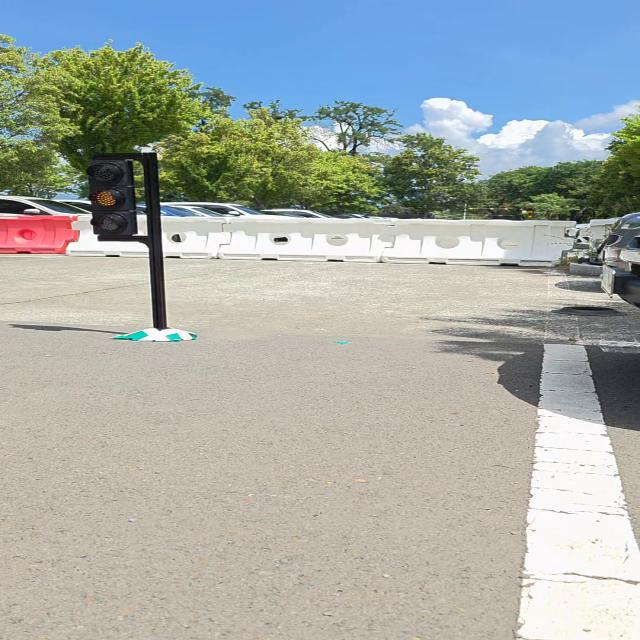yellow: (87, 160, 139, 236)
